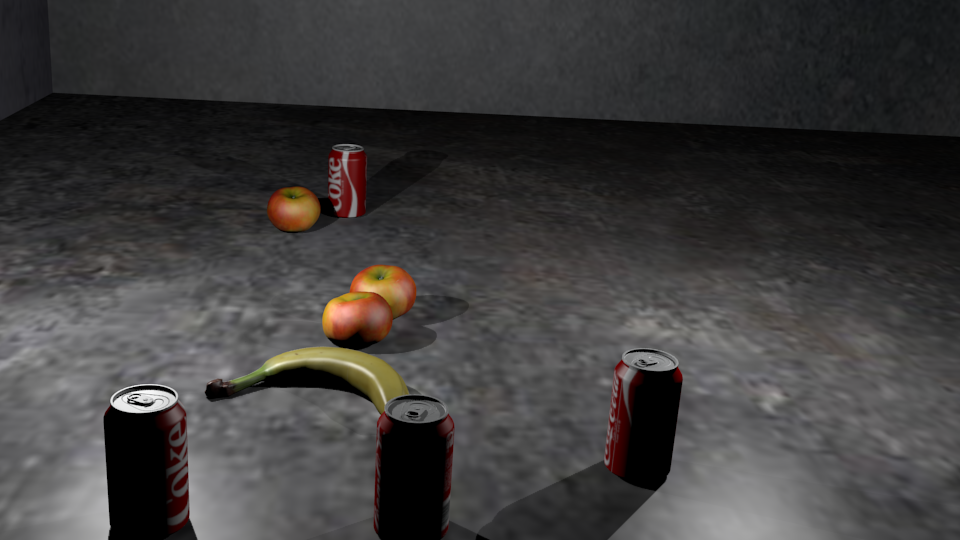apple: (829, 217, 950, 294), (404, 139, 479, 192), (350, 265, 417, 317), (323, 292, 393, 339), (268, 188, 320, 231), (1, 332, 24, 397)
banana: (1, 104, 200, 266), (204, 259, 475, 352), (344, 213, 610, 305), (205, 347, 411, 421), (440, 161, 642, 206), (683, 141, 819, 185), (1, 463, 66, 540)
cola_can: (106, 385, 190, 524), (374, 395, 455, 530), (605, 349, 683, 474), (329, 145, 367, 217)
orange: (131, 244, 254, 345), (92, 163, 168, 230), (1, 193, 62, 258)
